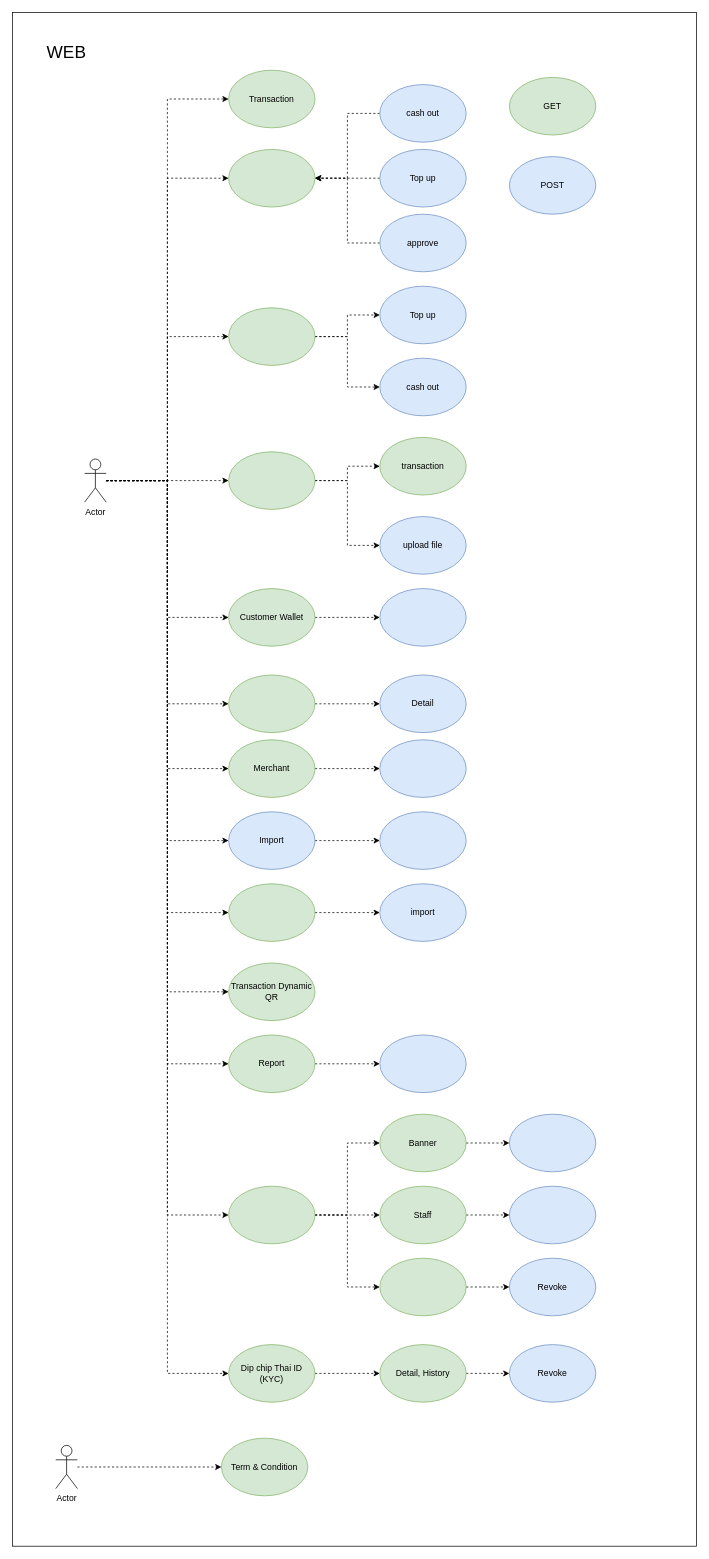
Image size: 709x1559. Some labels were removed from this diagram. Here are the shapes that lost their labels. From the top down, the centre of each, then its label:
At (271,178): "Transaction Adjustment".
At (271,336): "Collateral Adj".
At (271,480): "Bulk adj".
At (422,617): "unlock otp, block, reset pin, detail, delete".
At (271,703): "Transaction Merchant".
At (422,768): "Block".
At (422,840): "Fee,Merchant".
At (271,912): "Req to Pay".
At (422,1063): "Export".
At (552,1142): "Add, Edit, Inactive".
At (271,1214): "Manage".
At (552,1214): "Reset password, Add, Import".
At (422,1286): "Device".
